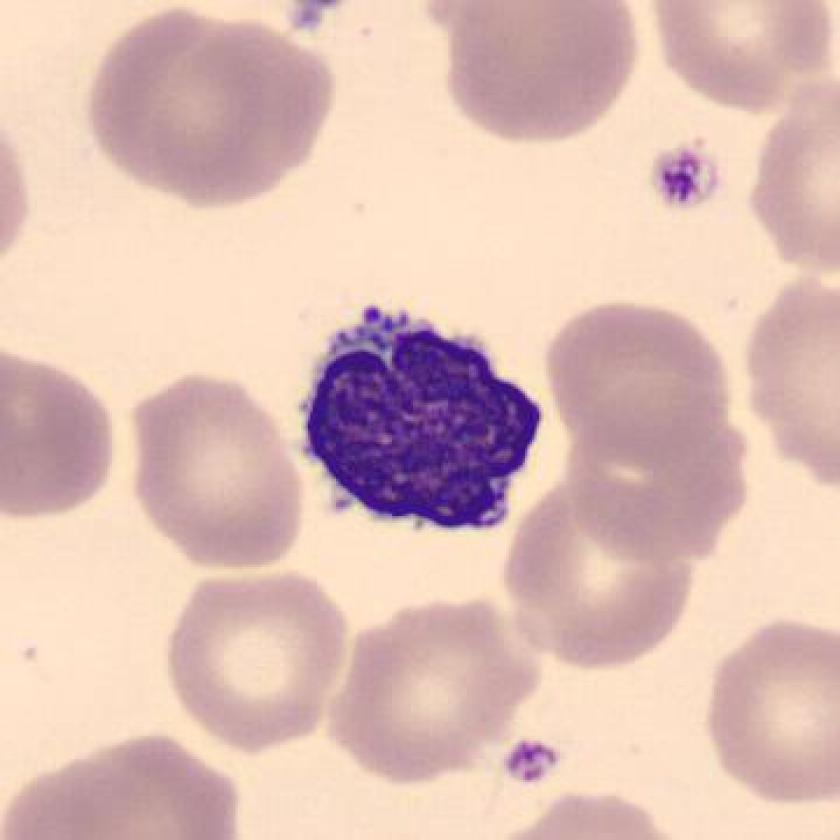lymphocyte: (284, 293, 557, 559)
